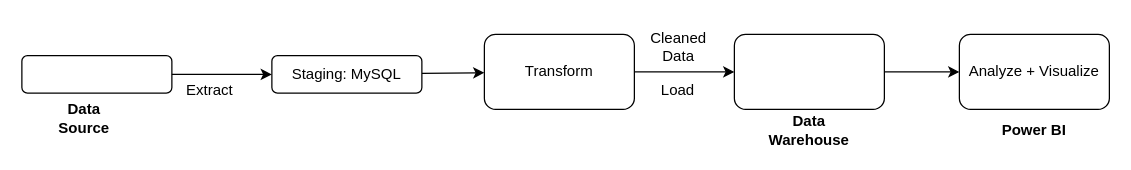
This 1131x170 diagram has some shape labels left out. Here are the shapes that lost their labels. From the top down, the centre of each, then its label:
At (x=96, y=73): "API".
At (x=808, y=71): "PostgreSQL".
